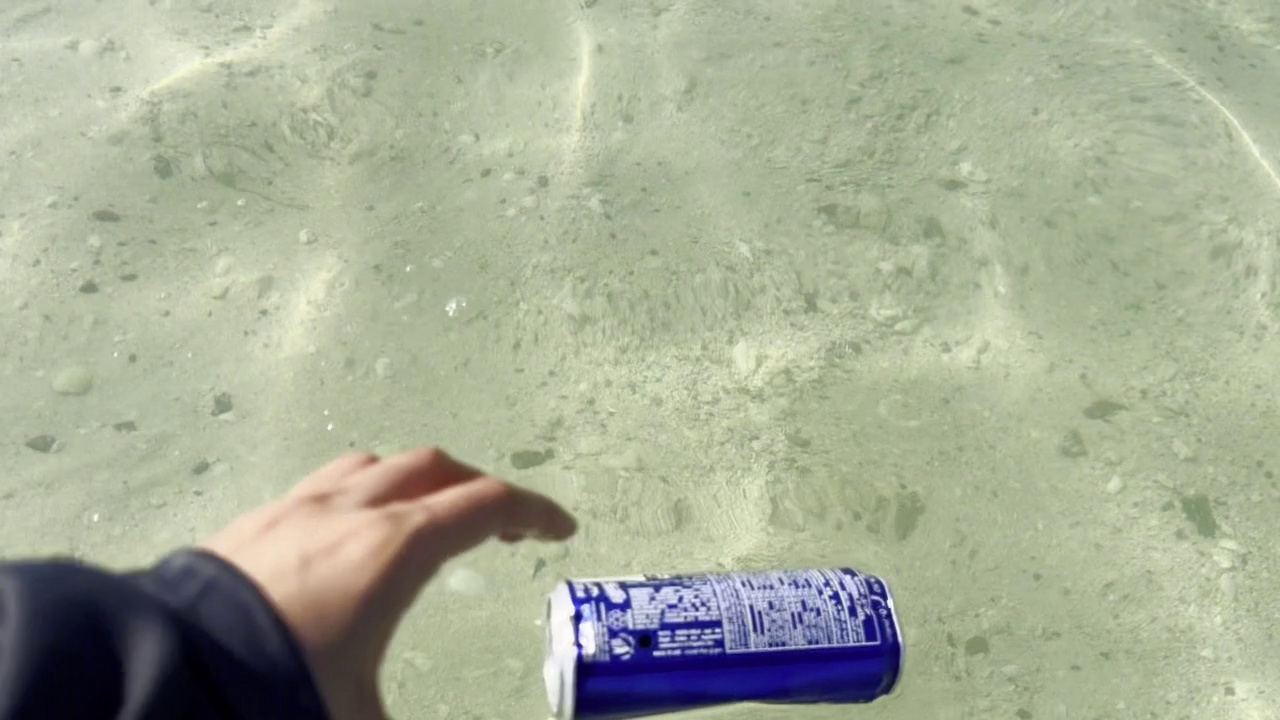debris: (533, 556, 917, 720)
